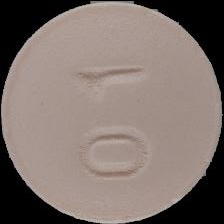63739-571: (0, 0, 224, 224)
